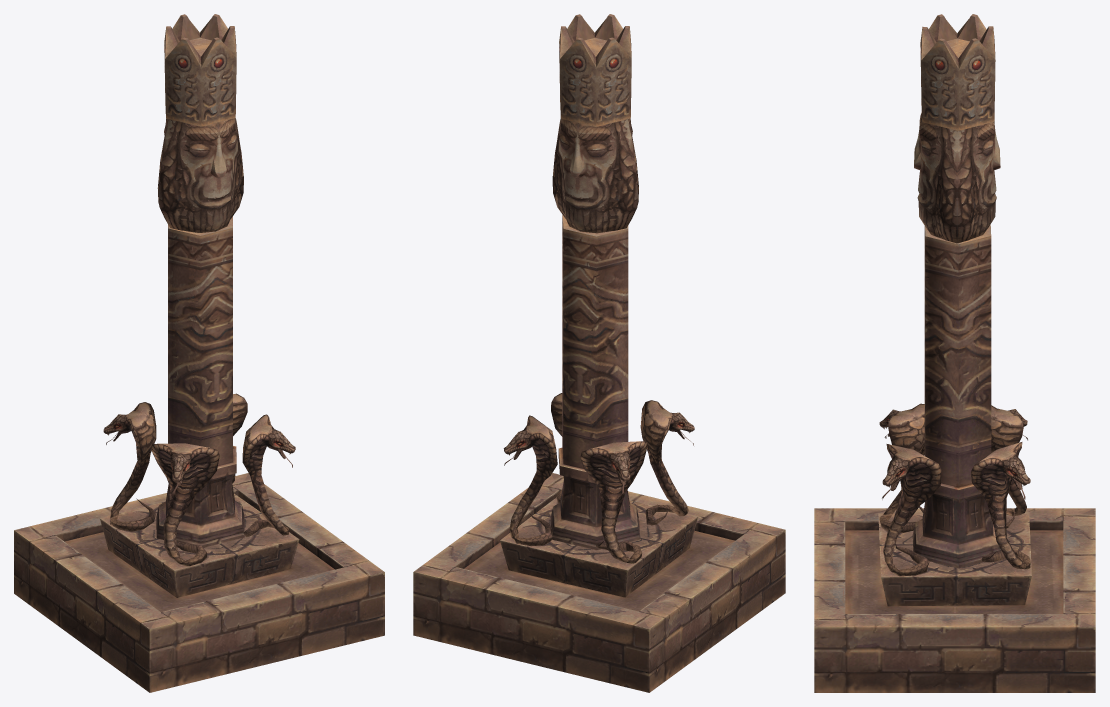
File: SC_huangmo_12.FBX
The picture shows the model from 3 angles, left to right: view 1: azimuth 30°, elevation 25°; view 2: azimuth 150°, elevation 25°; view 3: azimuth 270°, elevation 25°; orthographic projection. The views are drawn at different scales.
Parts seen in each view (by area): view 1: SC_huangmo_12; view 2: SC_huangmo_12; view 3: SC_huangmo_12.
Part boxes in pixels (x1,y1,x2,y2): SC_huangmo_12: [14, 14, 384, 692]; SC_huangmo_12: [413, 14, 785, 692]; SC_huangmo_12: [814, 14, 1095, 692].
Size of the model in its own units: 404 by 961 by 404.
